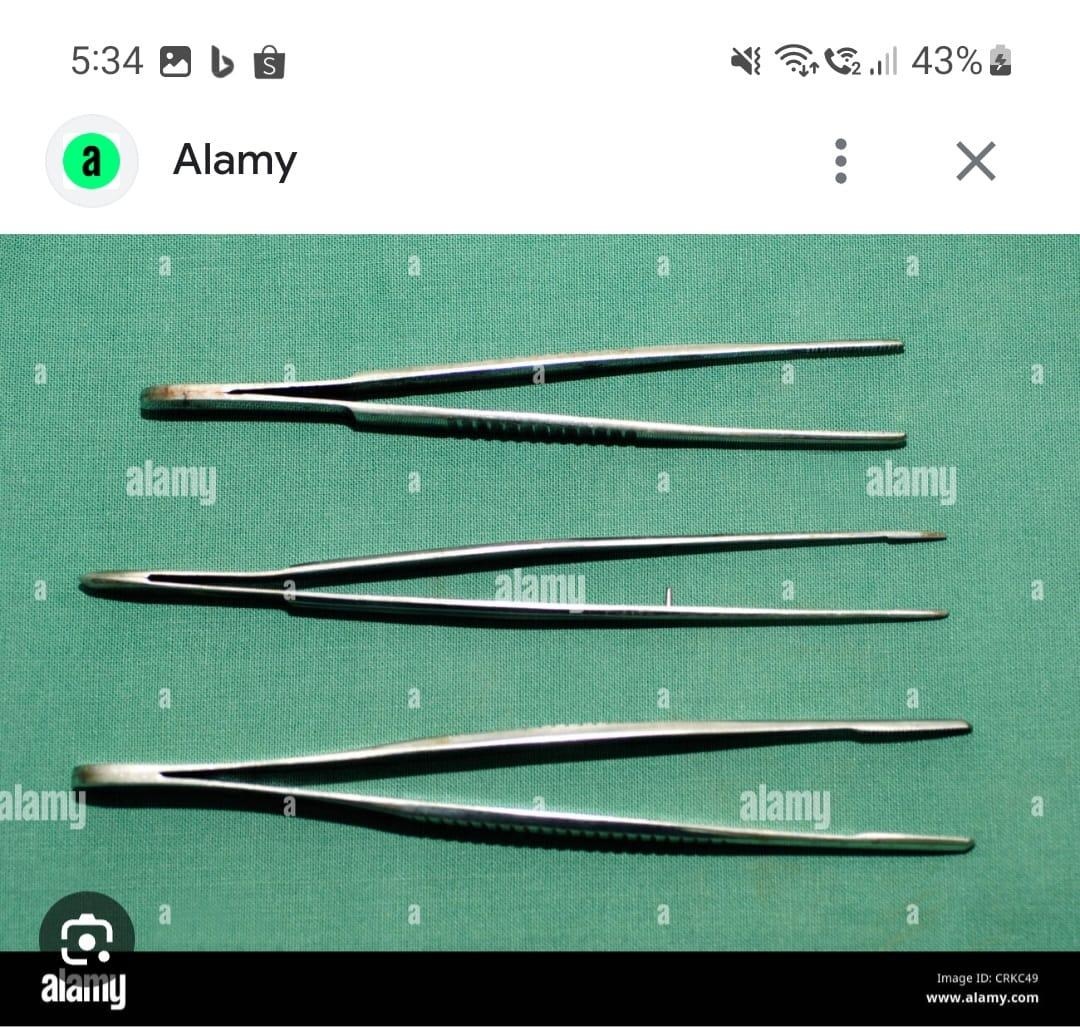Disscting Forceps: (62, 692, 1002, 880), (72, 510, 965, 658), (132, 322, 927, 462)
